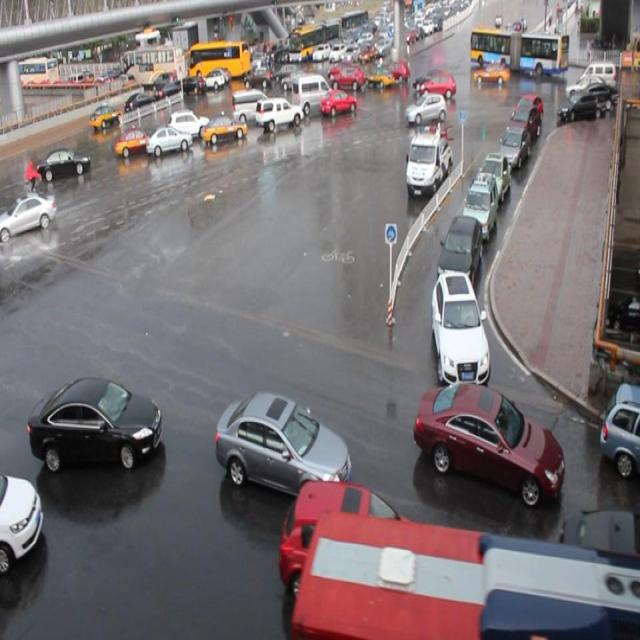bus: (405, 132, 452, 196)
car: (414, 381, 564, 507), (279, 480, 423, 610), (214, 389, 350, 501), (28, 376, 163, 468), (558, 504, 640, 590), (431, 270, 488, 384), (0, 470, 44, 569), (597, 384, 640, 474), (436, 214, 481, 291), (1, 192, 56, 238), (461, 174, 498, 242), (474, 152, 510, 207), (38, 145, 91, 177), (202, 112, 247, 146), (255, 98, 302, 130), (495, 124, 527, 170), (507, 106, 539, 150), (404, 93, 446, 126), (168, 110, 211, 139), (146, 126, 192, 153), (517, 94, 543, 132), (115, 128, 156, 152), (321, 90, 358, 115)
truck: (292, 77, 333, 113), (232, 90, 274, 122)
van: (292, 513, 640, 640)
